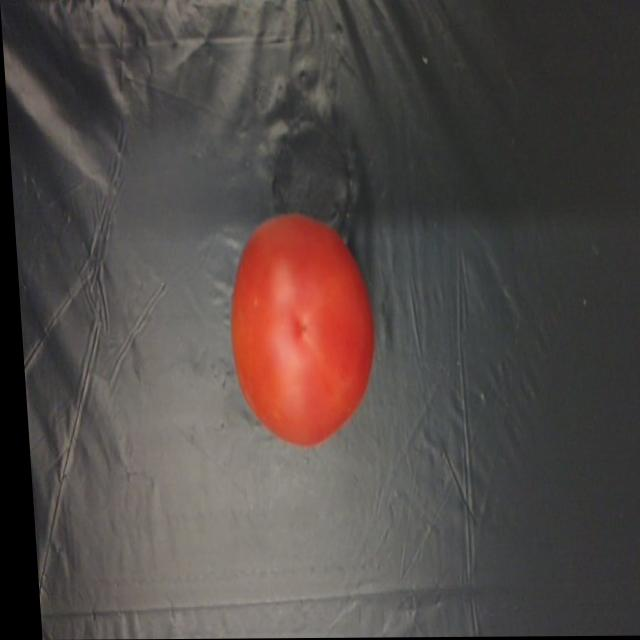kirmizi: (205, 207, 402, 481)
